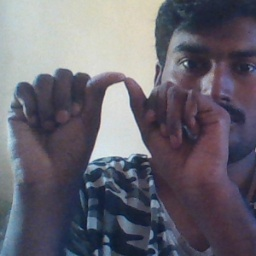A: (9, 66, 233, 194)
